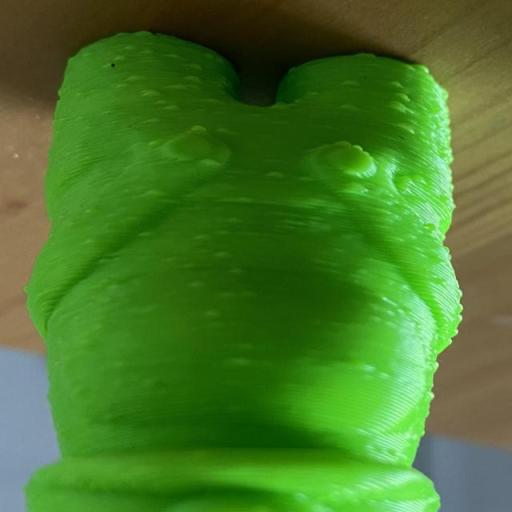blobs: (194, 156, 223, 170), (201, 306, 225, 322), (267, 100, 293, 113), (227, 264, 248, 278), (264, 168, 286, 180), (189, 122, 207, 136), (388, 99, 406, 113), (140, 84, 158, 98), (187, 278, 207, 290), (190, 231, 208, 244), (340, 100, 358, 113), (167, 81, 187, 91), (212, 250, 231, 260), (146, 187, 162, 198), (343, 78, 360, 88), (111, 52, 128, 62), (390, 78, 404, 90), (162, 102, 180, 111), (138, 230, 154, 240), (227, 215, 243, 225), (333, 138, 353, 146), (123, 42, 140, 51), (148, 138, 166, 146), (396, 91, 409, 102), (188, 72, 202, 82), (167, 52, 184, 60), (218, 125, 232, 134), (204, 96, 218, 105), (188, 62, 202, 70)
